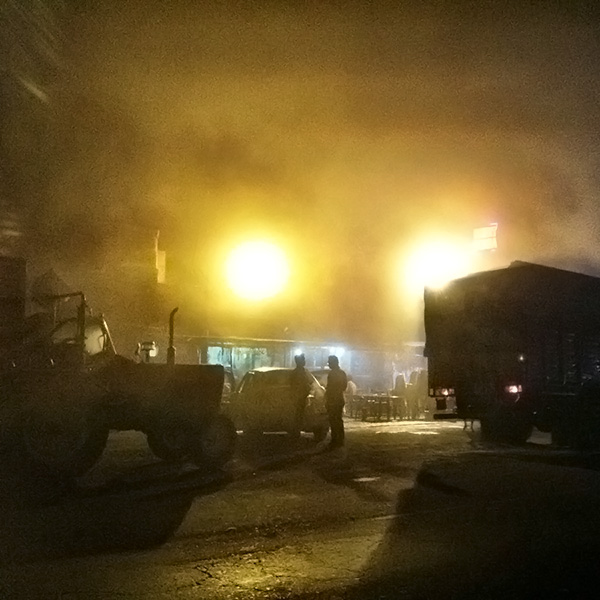car: (238, 369, 332, 448)
truck: (429, 262, 594, 447)
